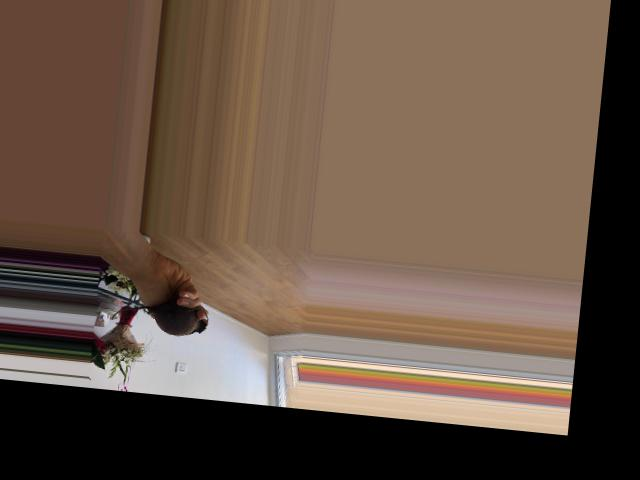beet: (111, 295, 210, 338)
